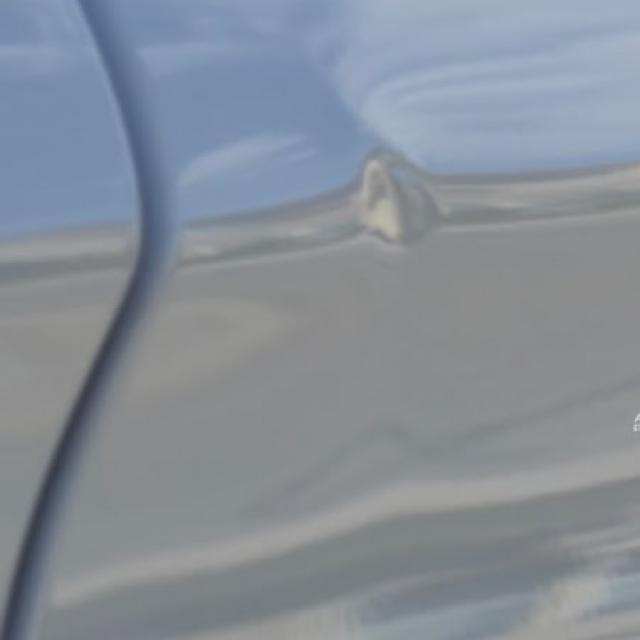dents: (324, 144, 474, 286)
